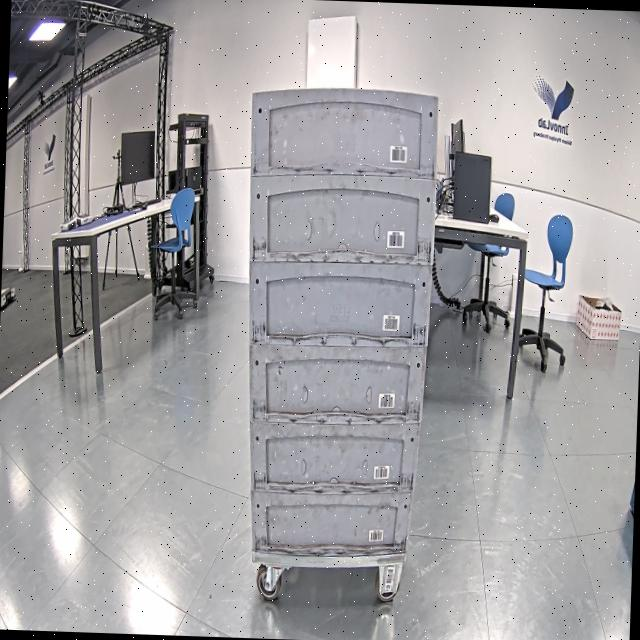Box3G: (248, 85, 440, 184), (245, 256, 432, 356), (246, 174, 436, 267), (245, 338, 426, 431), (246, 413, 422, 497), (248, 487, 413, 559)
